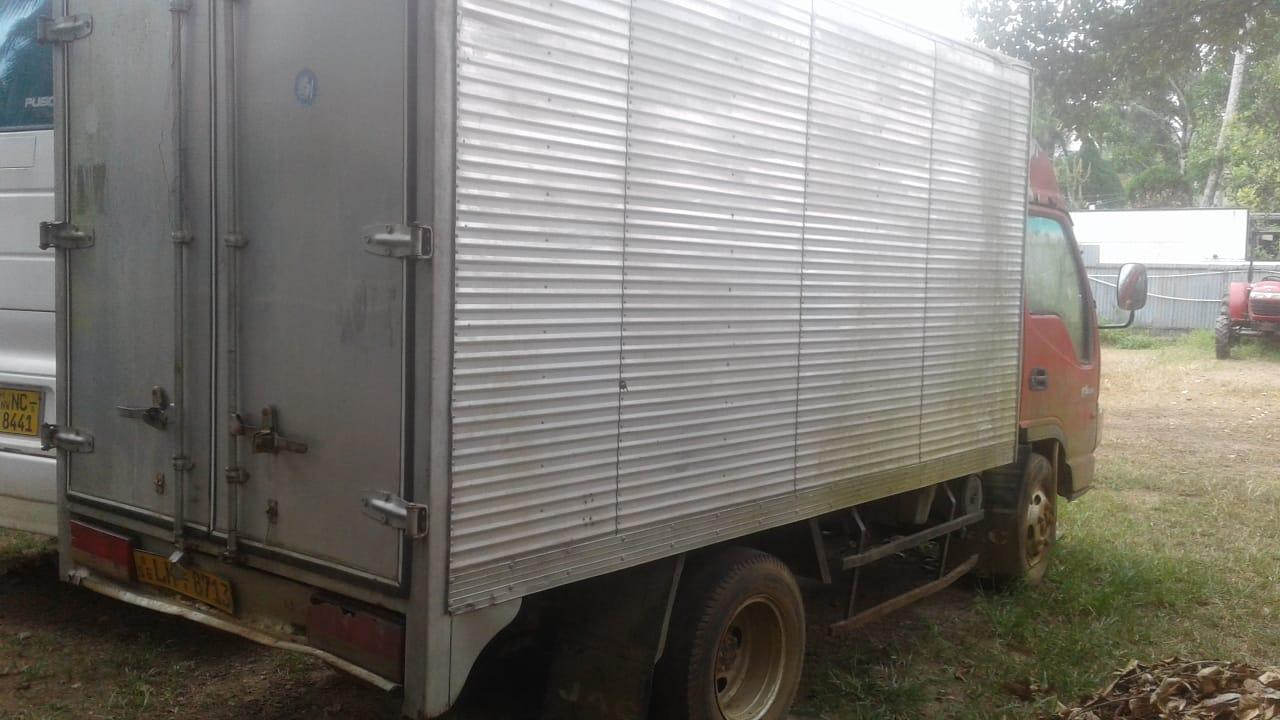truck: (39, 3, 1150, 720)
